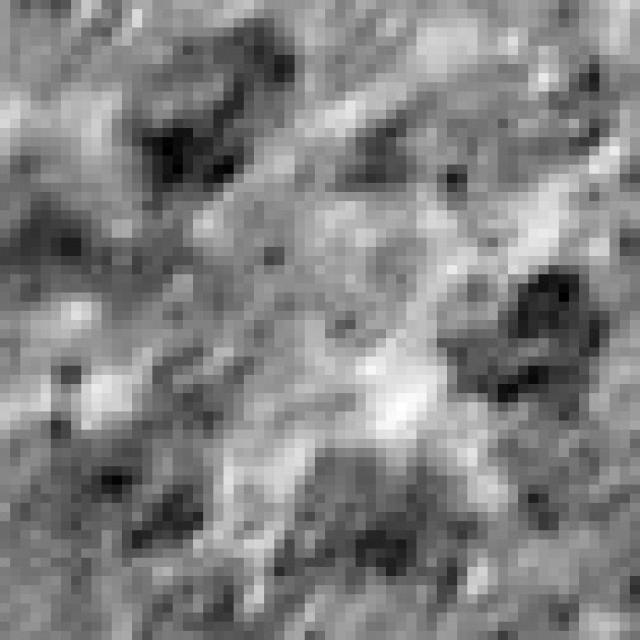inner: (146, 189, 443, 421)
lobe: (330, 58, 623, 220), (103, 15, 316, 212), (6, 401, 228, 561), (266, 443, 487, 603), (0, 154, 204, 313), (436, 264, 612, 436)
outer: (0, 0, 640, 627)
